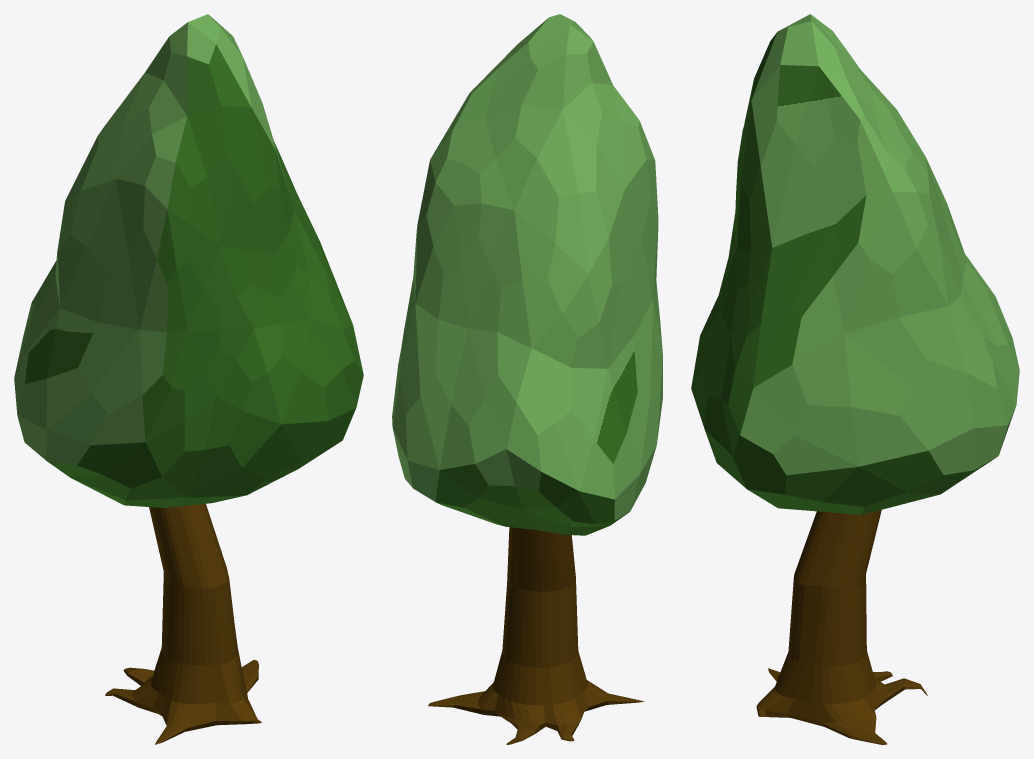
The model's file is ArbreVivant.fbx.
3 views of the same model, side by side, from view 1: azimuth 30°, elevation 25°; view 2: azimuth 150°, elevation 25°; view 3: azimuth 270°, elevation 25° (orthographic). The views are drawn at different scales.
Visible parts, largest first — view 1: Cylinder; view 2: Cylinder; view 3: Cylinder.
Part boxes in pixels (x1,y1,x2,y2): Cylinder: (14, 14, 363, 744); Cylinder: (392, 14, 662, 744); Cylinder: (691, 14, 1019, 744).
Size of the model in its own units: 275 by 718 by 312.
Materials: 1 (1 with a texture image).
